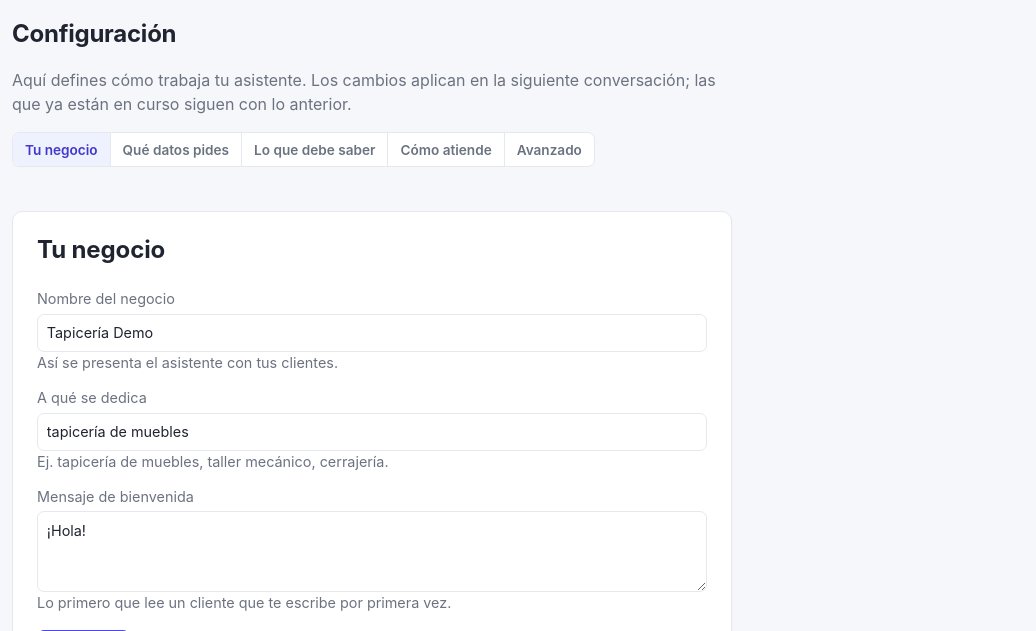
Test: las instrucciones internas NO se ven en las pestañas del día a día
The image size is (1036, 631).
Expected: the field showing "Tapicería Demo" is shown, 37,314 -> 707,352
Expected: the field showing "haz X" is not shown
Click the tab "Avanzado".
click(549, 150)  # box 505,133 -> 594,166
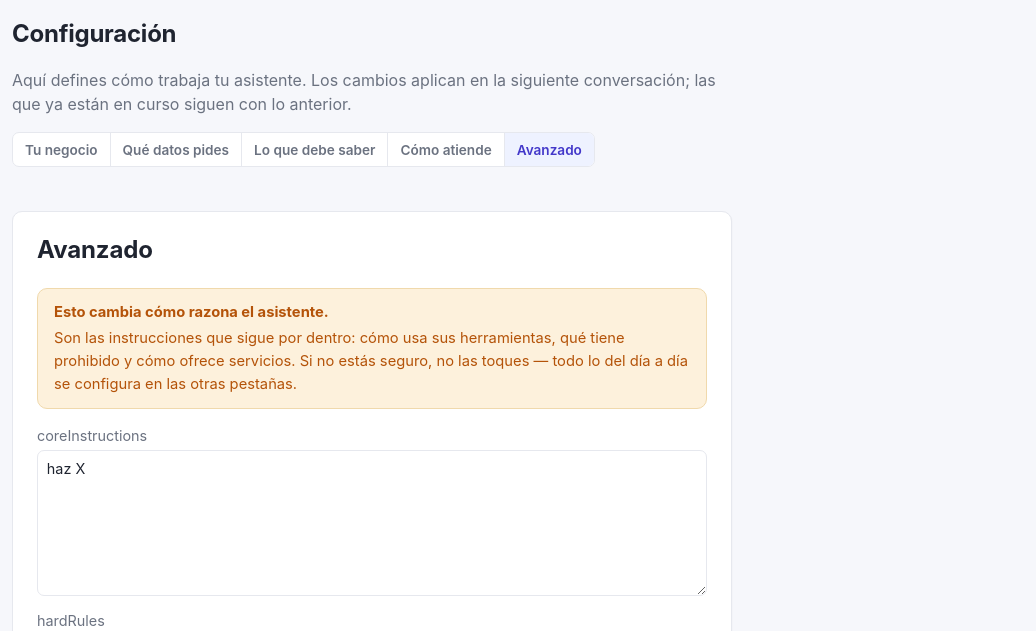
Expected: the text box showing "haz X" is shown, 37,450 -> 707,596
Expected: the text "Esto cambia cómo razona el asistente." is shown, 54,303 -> 329,321
